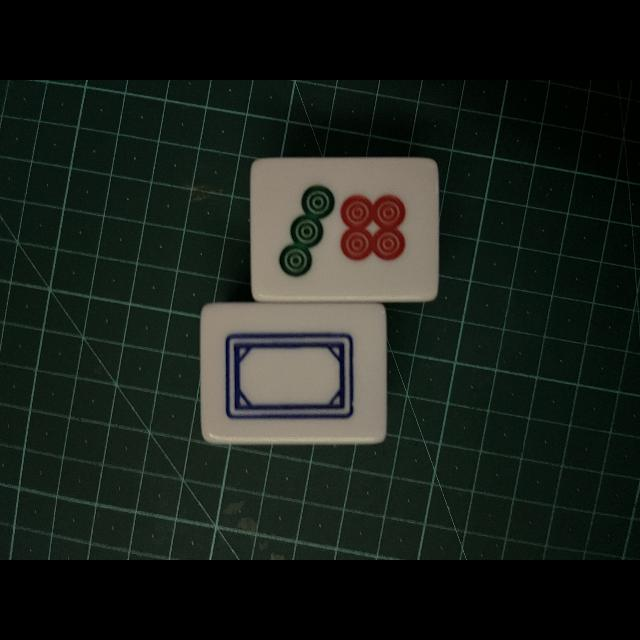d7: (254, 160, 436, 298)
dw: (203, 305, 383, 439)
